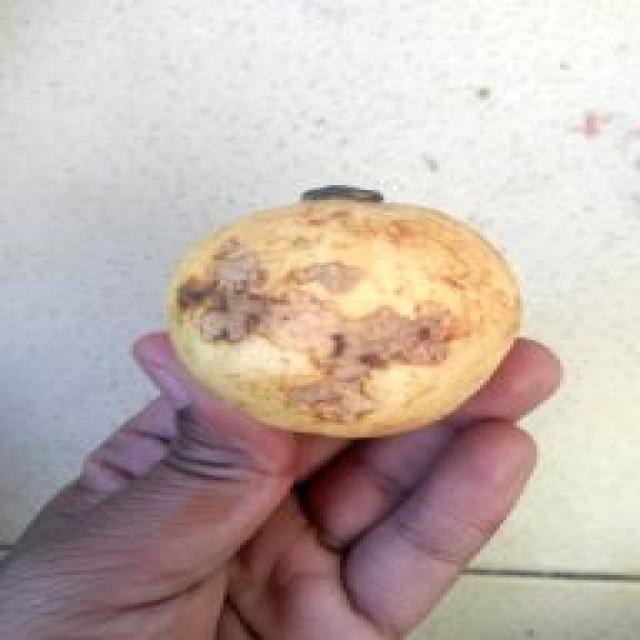Bad_Guava: (168, 199, 518, 437)
